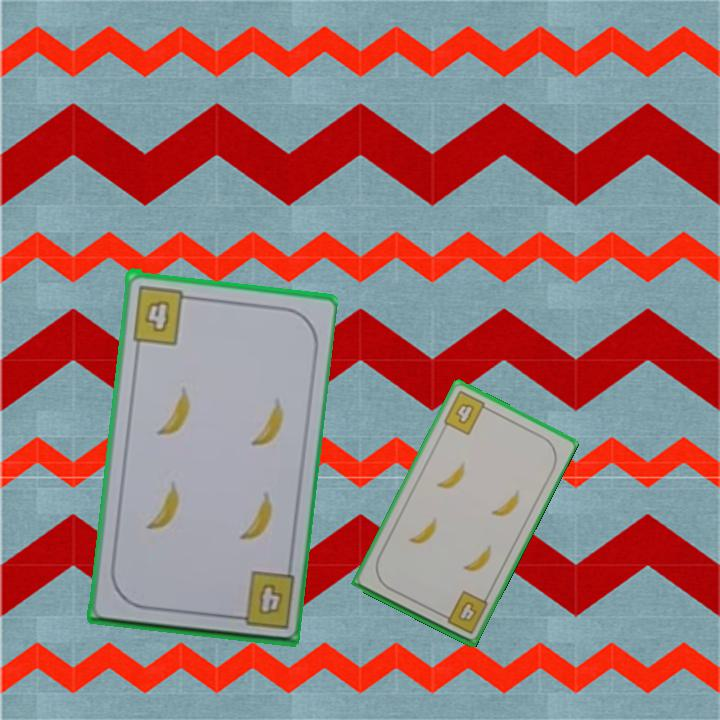4b: (129, 281, 196, 347), (440, 387, 494, 438), (436, 587, 491, 637), (254, 579, 286, 618)
